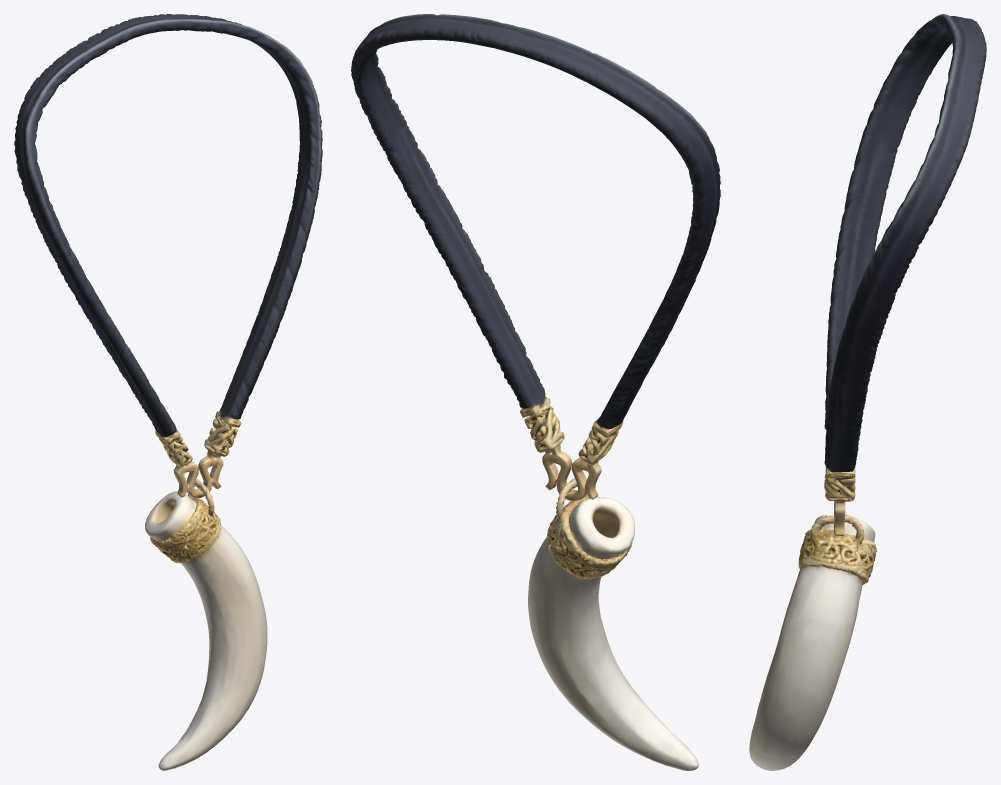
File: necklace.glb
The picture shows the model from 3 angles, left to right: view 1: azimuth 30°, elevation 25°; view 2: azimuth 150°, elevation 25°; view 3: azimuth 270°, elevation 25°; orthographic projection. The views are drawn at different scales.
Visible parts, largest first — view 1: tripo_node_aa86f87b-5b08-473e-b50d-2cbc8610a7e8; view 2: tripo_node_aa86f87b-5b08-473e-b50d-2cbc8610a7e8; view 3: tripo_node_aa86f87b-5b08-473e-b50d-2cbc8610a7e8.
Part boxes in pixels (x1=…): tripo_node_aa86f87b-5b08-473e-b50d-2cbc8610a7e8: x1=14, y1=14, x2=322, y2=770; tripo_node_aa86f87b-5b08-473e-b50d-2cbc8610a7e8: x1=351, y1=14, x2=720, y2=770; tripo_node_aa86f87b-5b08-473e-b50d-2cbc8610a7e8: x1=749, y1=14, x2=986, y2=770.
Size of the model in its own units: 0.446 by 0.98 by 0.2798.
1 material, 1 textured.
